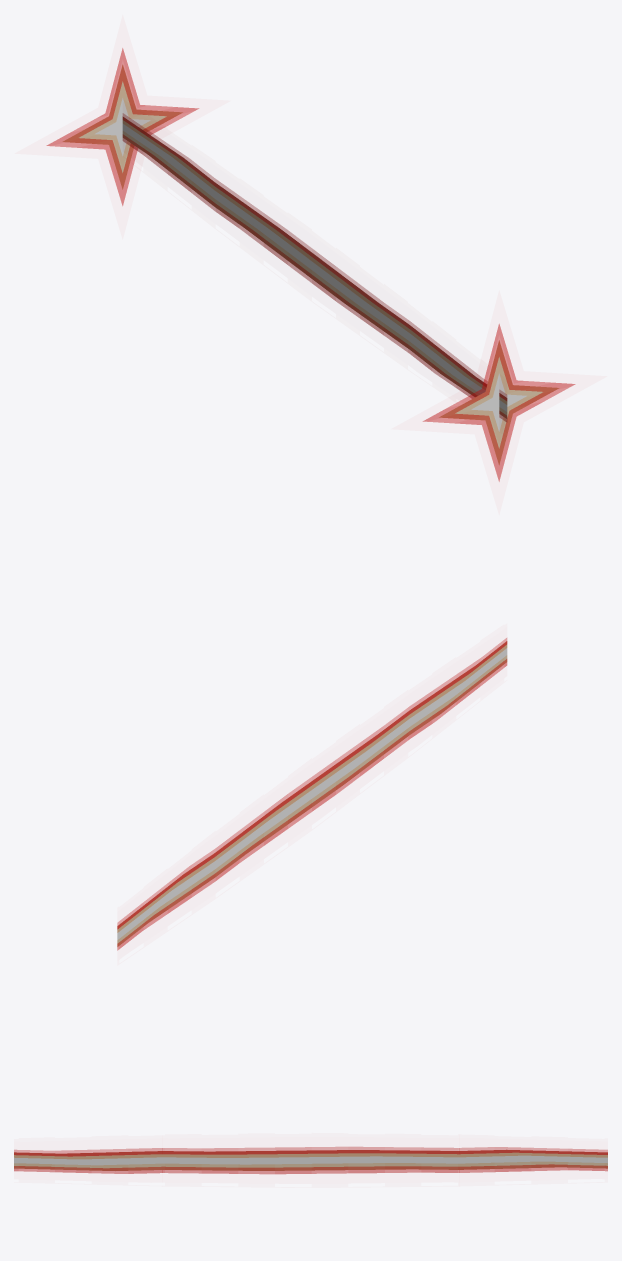
The model's file is DECO_MOVING_LASER.glb.
3 renders of one model, top to bottom at view 1: azimuth 30°, elevation 25°; view 2: azimuth 150°, elevation 25°; view 3: azimuth 270°, elevation 25°, orthographic. The views are drawn at different scales.
Visible parts, largest first — view 1: DECO_MOVING_LASER; view 2: DECO_MOVING_LASER; view 3: DECO_MOVING_LASER.
Part boxes in pixels (bbox=[...]): DECO_MOVING_LASER: bbox=[46, 48, 575, 481]; DECO_MOVING_LASER: bbox=[117, 638, 507, 950]; DECO_MOVING_LASER: bbox=[14, 1147, 607, 1174].
Size of what is drawn, in the model's own units: 0.9362 by 0.9299 by 2.91.
Materials: 1 (1 with a texture image).
